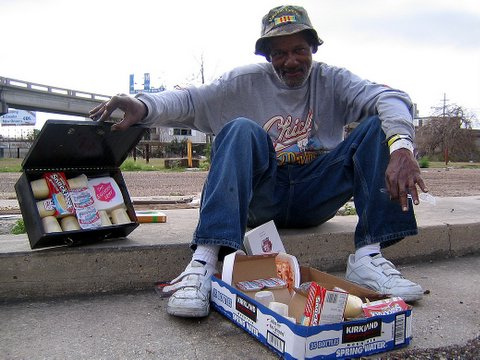person: (88, 5, 429, 318)
